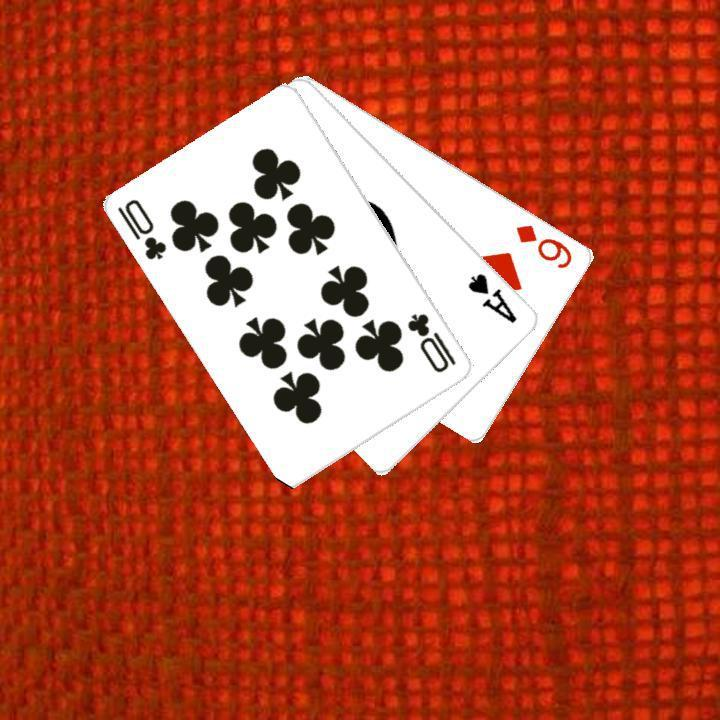10: (113, 194, 170, 262), (403, 309, 459, 376)
6: (512, 220, 575, 271)
A: (464, 268, 520, 325)
